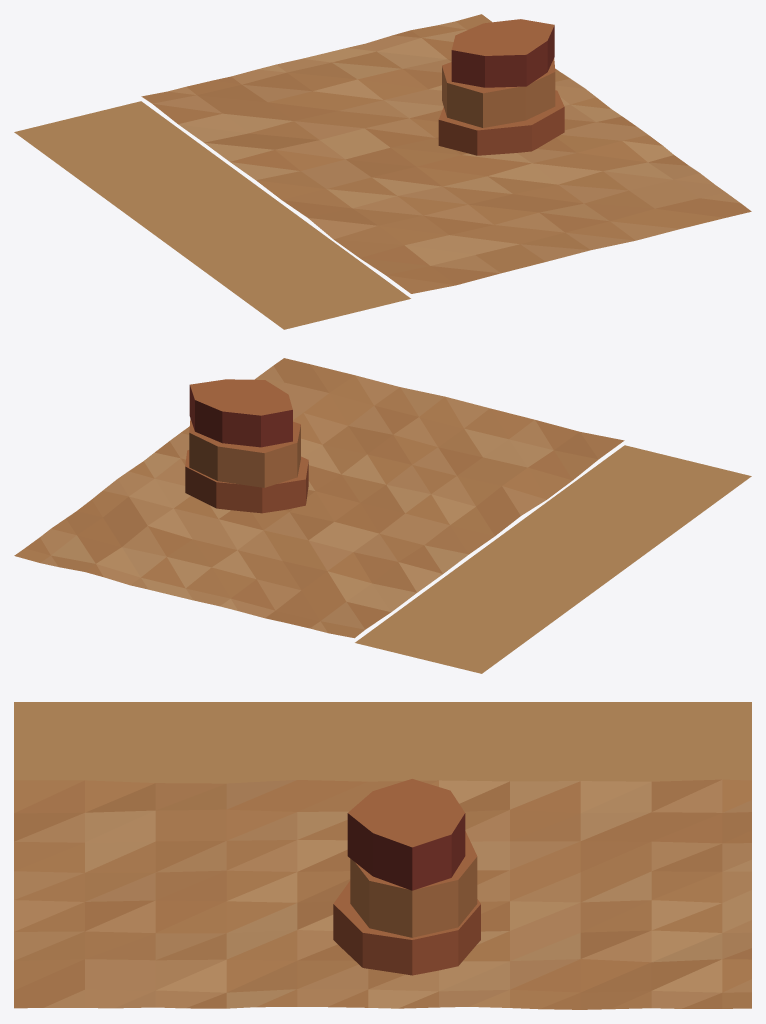
The picture shows the model from 3 angles, top to bottom: view 1: azimuth 30°, elevation 25°; view 2: azimuth 150°, elevation 25°; view 3: azimuth 270°, elevation 25°; orthographic projection. The views are drawn at different scales.
Parts seen in each view (by area): view 1: baked; view 2: baked; view 3: baked.
Boxes of the visible parts, x1=… form: baked: x1=14, y1=14, x2=751, y2=329; baked: x1=14, y1=358, x2=751, y2=673; baked: x1=14, y1=702, x2=751, y2=1009.
Bounding box in the file's own units: 125 × 24.69 × 125.
